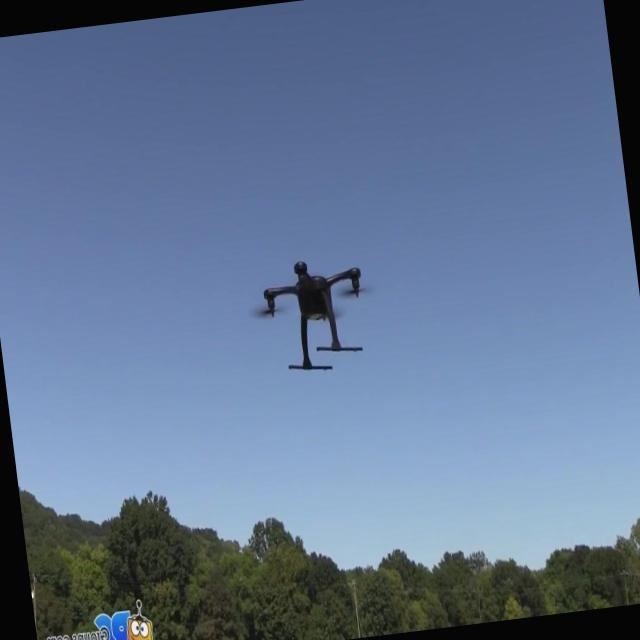drone: (256, 250, 376, 382)
